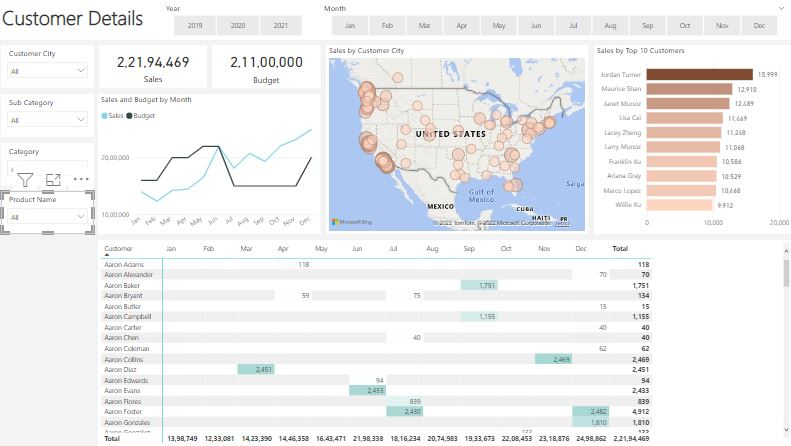

Layout of this report page (visuals, bound fields, positions):
{"tool":"powerbi","page":{"name":"Customer Details","canvas":[1280,720],"ordinal":1},"visuals":[{"type":"textbox","box":[0,0,1280,64],"z":0},{"type":"slicer","fields":{"Values":["DIM_Calendar.Year"]},"box":[256,0,256,64],"z":1000},{"type":"slicer","fields":{"Values":["DIM_Calendar.MonthShort"]},"box":[512,0,768,64],"z":2000},{"type":"slicer","fields":{"Values":["DIM_Customers.Customer City"]},"box":[3.2,72.6,150,69.4],"z":3000},{"type":"slicer","fields":{"Values":["DIM_Products.Product Category"]},"box":[3.2,230.6,150,69.4],"z":4000},{"type":"slicer","fields":{"Values":["DIM_Products.Product Name"]},"box":[3.2,308.1,150,69.4],"z":5000},{"type":"slicer","fields":{"Values":["DIM_Products.Sub Category"]},"box":[3.2,151.6,150,69.4],"z":6000},{"type":"lineChart","fields":{"Category":["DIM_Calendar.MonthShort"],"Y":["Analysis Metrics.Sales","Analysis Metrics.Budget"]},"box":[159.8,151.8,358.7,226.4],"z":7000},{"type":"card","fields":{"Values":["Analysis Metrics.Sales"]},"box":[160.7,72.8,174,69.2],"z":8000},{"type":"map","fields":{"Category":["DIM_Customers.Customer City"],"Size":["Analysis Metrics.Sales"]},"box":[527.3,72.8,423.5,304.5],"z":9000},{"type":"card","fields":{"Values":["Analysis Metrics.Budget"]},"box":[343.6,72.8,174.9,70.1],"z":10000},{"type":"pivotTable","fields":{"Rows":["DIM_Customers.Full Name"],"Columns":["DIM_Calendar.MonthShort"],"Values":["Analysis Metrics.Sales"]},"box":[159.8,387.1,1120.4,332.9],"z":11000},{"type":"barChart","title":"Sales by Top 10 Customers","fields":{"Category":["DIM_Customers.Full Name"],"Y":["Analysis Metrics.Sales"]},"box":[959.7,72.8,320.5,304.5],"z":12000}]}

Visuals, with their boxes in screenshot pixels (x1, y1, x2, y2), scaled from the page's 1280x720 canvas onto the 791x446 screenshot:
textbox: [left=0, top=0, right=790, bottom=40]
slicer - DIM_Calendar.Year: [left=158, top=0, right=316, bottom=40]
slicer - DIM_Calendar.MonthShort: [left=316, top=0, right=790, bottom=40]
slicer - DIM_Customers.Customer City: [left=2, top=45, right=95, bottom=88]
slicer - DIM_Products.Product Category: [left=2, top=143, right=95, bottom=186]
slicer - DIM_Products.Product Name: [left=2, top=191, right=95, bottom=234]
slicer - DIM_Products.Sub Category: [left=2, top=94, right=95, bottom=137]
lineChart - DIM_Calendar.MonthShort x Analysis Metrics.Sales: [left=99, top=94, right=320, bottom=234]
card - Analysis Metrics.Sales: [left=99, top=45, right=207, bottom=88]
map - DIM_Customers.Customer City x Analysis Metrics.Sales: [left=326, top=45, right=588, bottom=234]
card - Analysis Metrics.Budget: [left=212, top=45, right=320, bottom=89]
pivotTable - DIM_Customers.Full Name x DIM_Calendar.MonthShort: [left=99, top=240, right=790, bottom=445]
"Sales by Top 10 Customers" barChart: [left=593, top=45, right=790, bottom=234]
